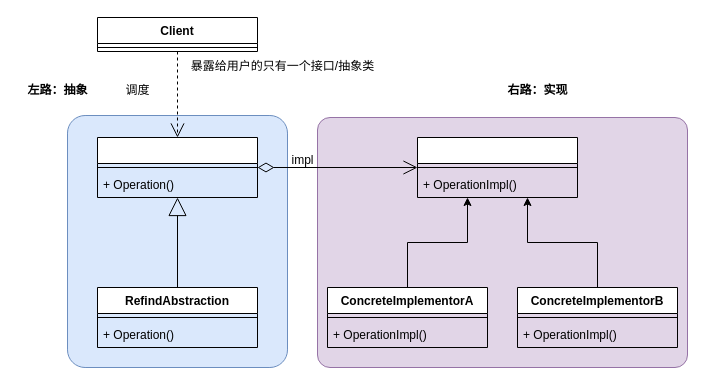
Some shapes in this 705 by 385 pixel diagram are drawn without their labels. The shapes that lost their labels are listed below. From the top down, each one's box as (x1, y1, x2, y2) in pixels, then its label:
(96, 136, 258, 198): Abstraction
(416, 136, 578, 198): Implementor
